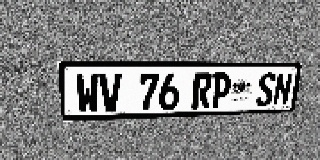6: (159, 73, 180, 110)
7: (138, 73, 159, 111)
N: (272, 73, 293, 106)
P: (210, 73, 232, 108)
R: (192, 73, 213, 109)
S: (255, 73, 277, 107)
V: (99, 73, 122, 113)
W: (75, 73, 99, 113)
